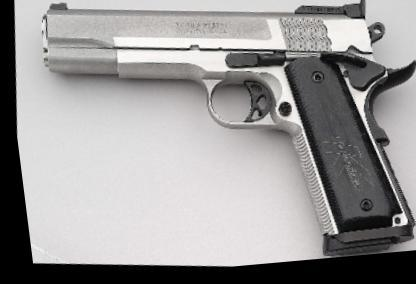pistol: (14, 0, 415, 281)
